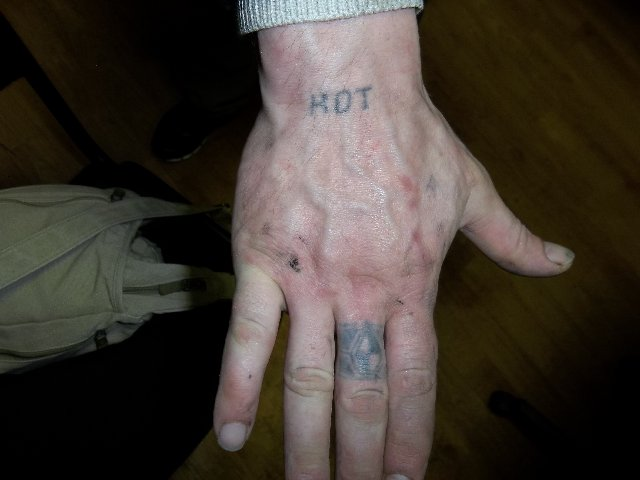tatu3_bukva: (304, 80, 375, 122)
